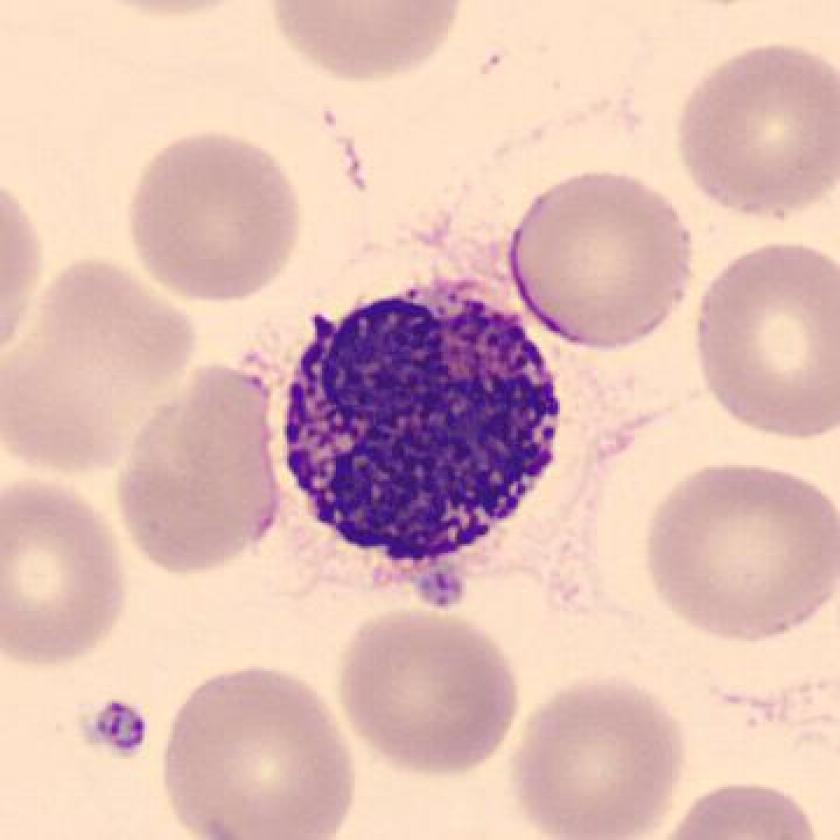basophil: (267, 276, 580, 598)
